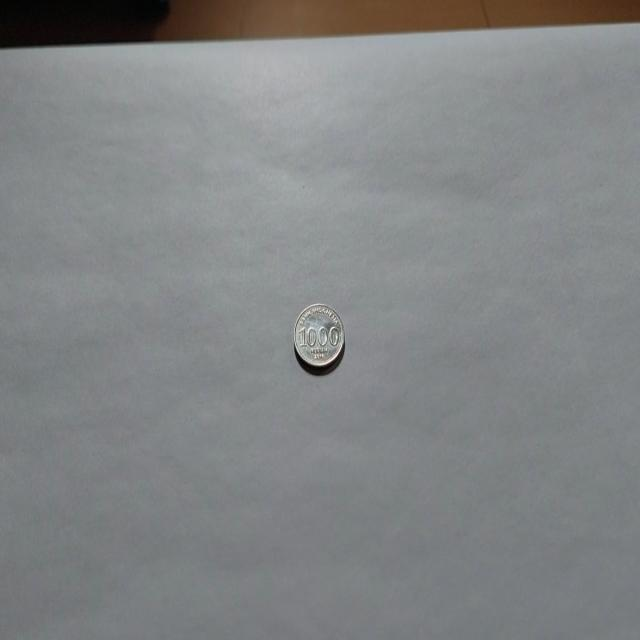seribu rupiah koin: (292, 302, 346, 372)
